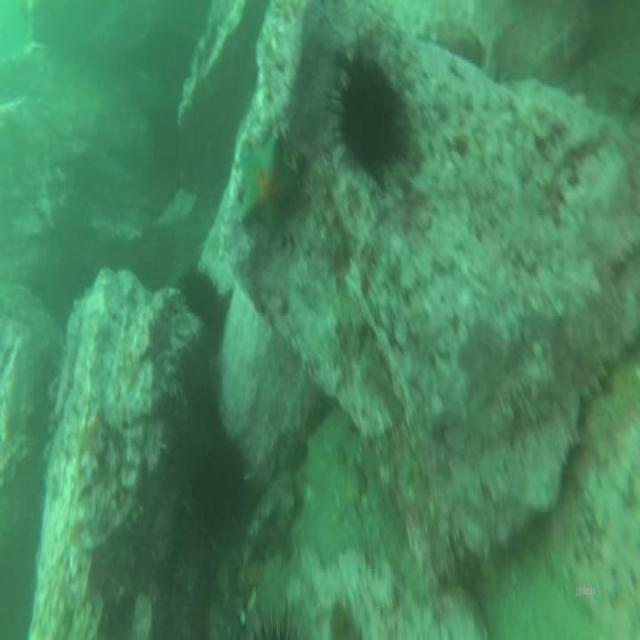echinus: (324, 51, 412, 183), (198, 434, 248, 514), (175, 261, 226, 332), (246, 594, 303, 640)
starfish: (236, 133, 295, 235)
